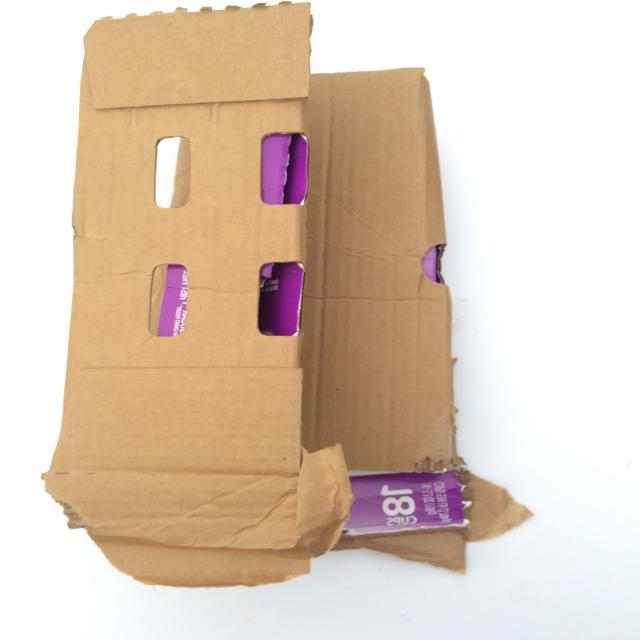cardboard: (32, 0, 513, 578)
